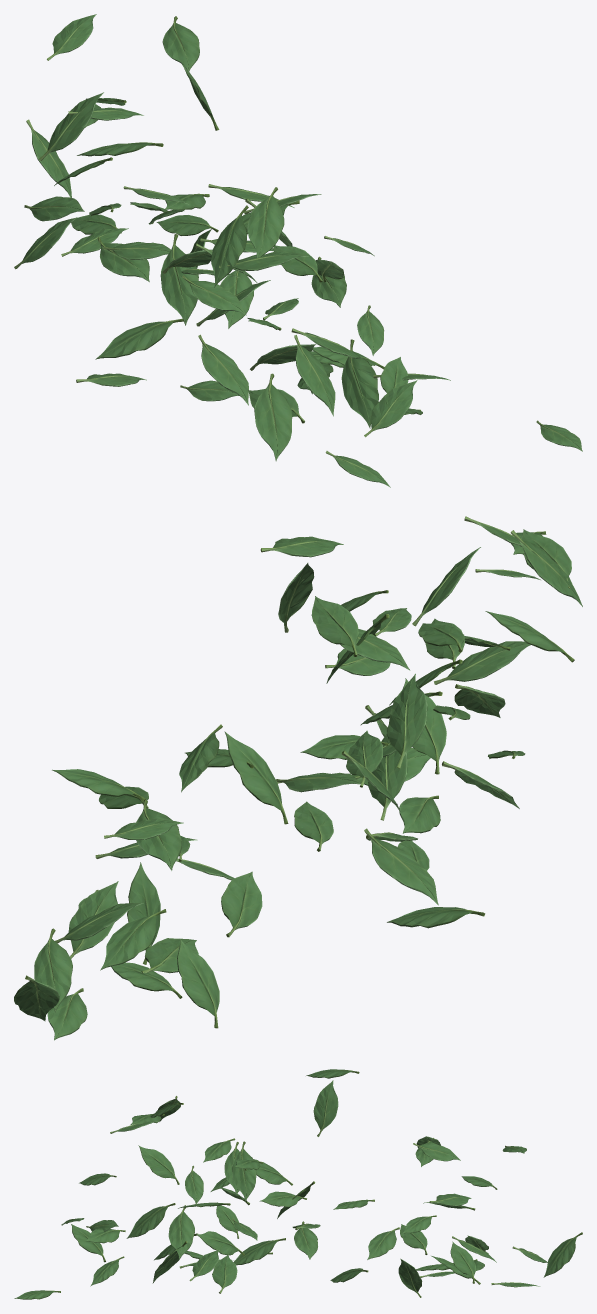
File: holy_canopy15_complete.glb
3 renders of one model, top to bottom at view 1: azimuth 30°, elevation 25°; view 2: azimuth 150°, elevation 25°; view 3: azimuth 270°, elevation 25°, orthographic. The views are drawn at different scales.
Visible parts, largest first — view 1: holy_canopy15; view 2: holy_canopy15; view 3: holy_canopy15.
Boxes of the visible parts, x1,y1,x2,y2 form: holy_canopy15: [14, 14, 582, 487]; holy_canopy15: [14, 516, 582, 1040]; holy_canopy15: [14, 1069, 582, 1299].
Bounding box in the file's own units: 9.99 × 10.55 × 25.7.
Materials: 1 (1 with a texture image).
